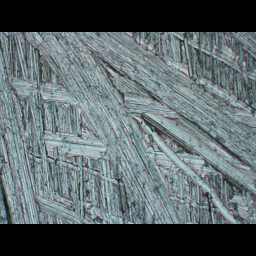d: (0, 32, 254, 223)
